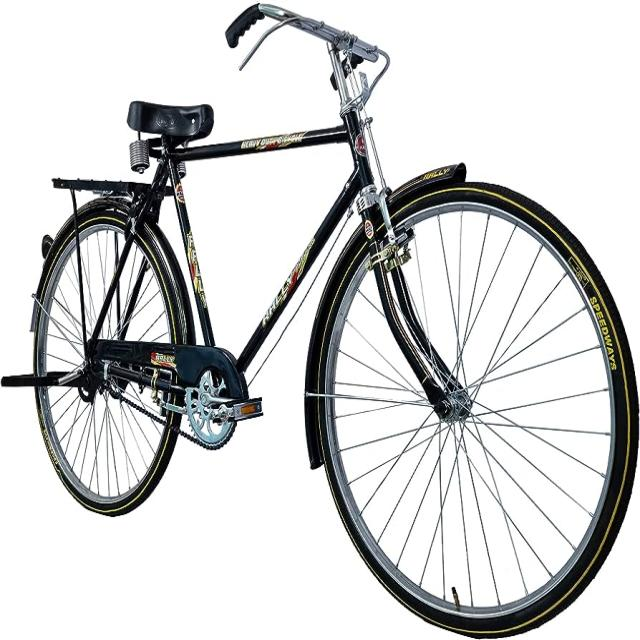bicycle: (1, 3, 640, 637)
